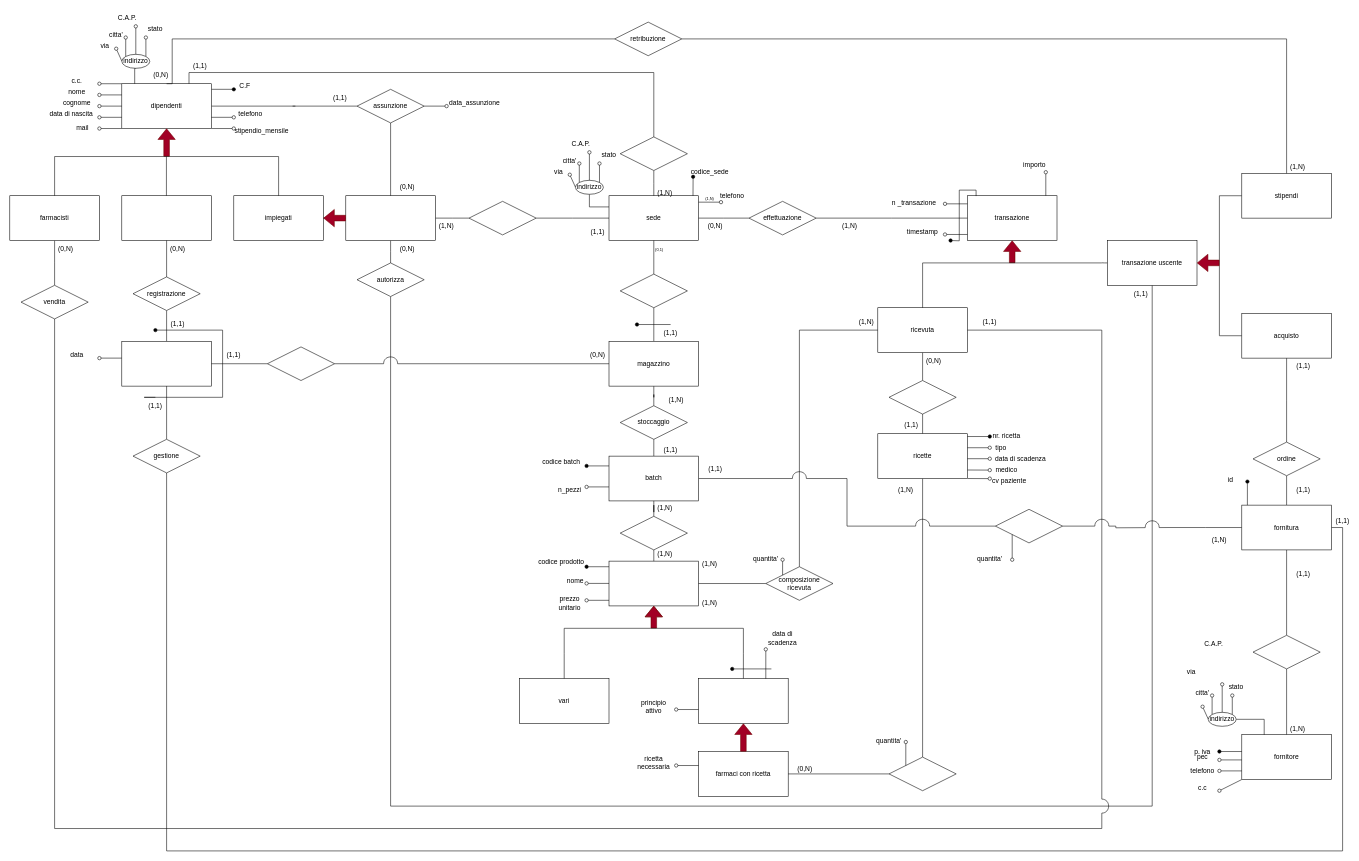
Some shapes in this 1359 by 861 pixel diagram are drawn without their labels. The box of each missing label's shape, as (x1, y1, x2, y2) in pixels:
afferenza: (620, 136, 687, 171)
appartenenza: (620, 274, 687, 308)
carico: (267, 346, 335, 381)
composizione ordine: (995, 509, 1063, 543)
contenimento: (620, 516, 687, 550)
deperibili: (698, 678, 788, 724)
direzione: (468, 201, 536, 235)
dirigente: (345, 195, 435, 241)
magazzinieri: (121, 195, 211, 241)
operazione su magazzino: (121, 341, 211, 386)
prescrizione: (888, 757, 956, 791)
prodotti: (608, 561, 699, 606)
R-R: (888, 380, 956, 414)
rifornimento: (1252, 635, 1320, 669)
